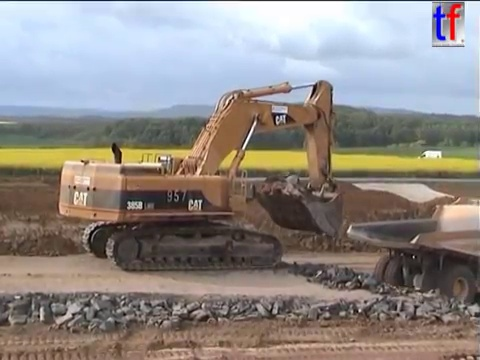excavator: (55, 78, 346, 273)
truck: (344, 195, 480, 311)
